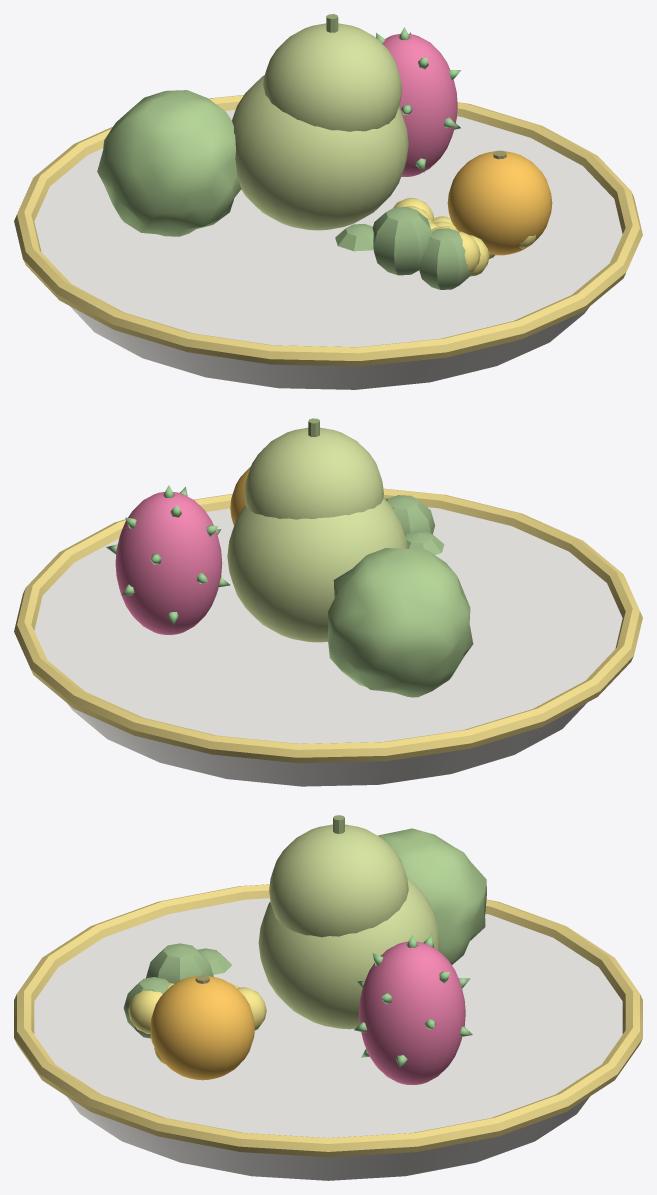
Rendered from mam_ngu_qua.glb.
The picture shows the model from 3 angles, top to bottom: view 1: azimuth 30°, elevation 25°; view 2: azimuth 150°, elevation 25°; view 3: azimuth 270°, elevation 25°; orthographic projection.
Parts seen in each view (by area): view 1: mam_ngu_qua.001, pomelo1, custard_apple, pomelo2, orange, mam_ngu_qua_sung, dragon_fruit; view 2: mam_ngu_qua.001, custard_apple, pomelo1, dragon_fruit, pomelo2, mam_ngu_qua_sung, orange; view 3: mam_ngu_qua.001, pomelo2, pomelo1, dragon_fruit, orange, custard_apple, mam_ngu_qua_sung, banana_5_0, banana_0_0.
Part boxes in pixels (box(x1,y1,x2,y2)): mam_ngu_qua.001: box(14, 95, 642, 389); pomelo1: box(232, 75, 408, 230); custard_apple: box(97, 90, 241, 236); pomelo2: box(263, 23, 401, 131); orange: box(447, 151, 552, 255); mam_ngu_qua_sung: box(335, 207, 471, 289); dragon_fruit: box(382, 34, 457, 176); mam_ngu_qua.001: box(14, 488, 642, 786); custard_apple: box(327, 548, 473, 697); pomelo1: box(227, 498, 407, 642); dragon_fruit: box(115, 492, 222, 634); pomelo2: box(244, 427, 383, 519); mam_ngu_qua_sung: box(384, 495, 444, 554); orange: box(230, 466, 250, 525); mam_ngu_qua.001: box(14, 884, 642, 1180); pomelo2: box(269, 824, 408, 937); pomelo1: box(258, 877, 440, 1029); dragon_fruit: box(359, 941, 465, 1084); orange: box(150, 975, 254, 1080); custard_apple: box(378, 828, 486, 964); mam_ngu_qua_sung: box(123, 943, 231, 1038); banana_5_0: box(128, 990, 162, 1033); banana_0_0: box(237, 987, 266, 1030).
Bounding box in the file's own units: 0.3601 × 0.16 × 0.3601.
